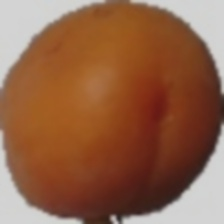apricot: (31, 12, 208, 174)
